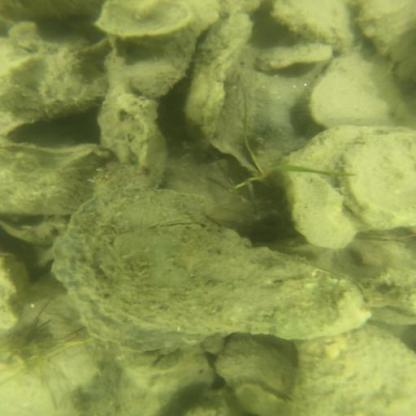Oyster- Indeterminate: (94, 218, 382, 340)
Oyster-Closed: (47, 188, 205, 353), (291, 328, 415, 416), (121, 0, 220, 99), (188, 13, 252, 151), (310, 45, 414, 125), (346, 130, 413, 228), (288, 172, 355, 250), (355, 0, 415, 83), (214, 337, 293, 398), (272, 0, 354, 54)
